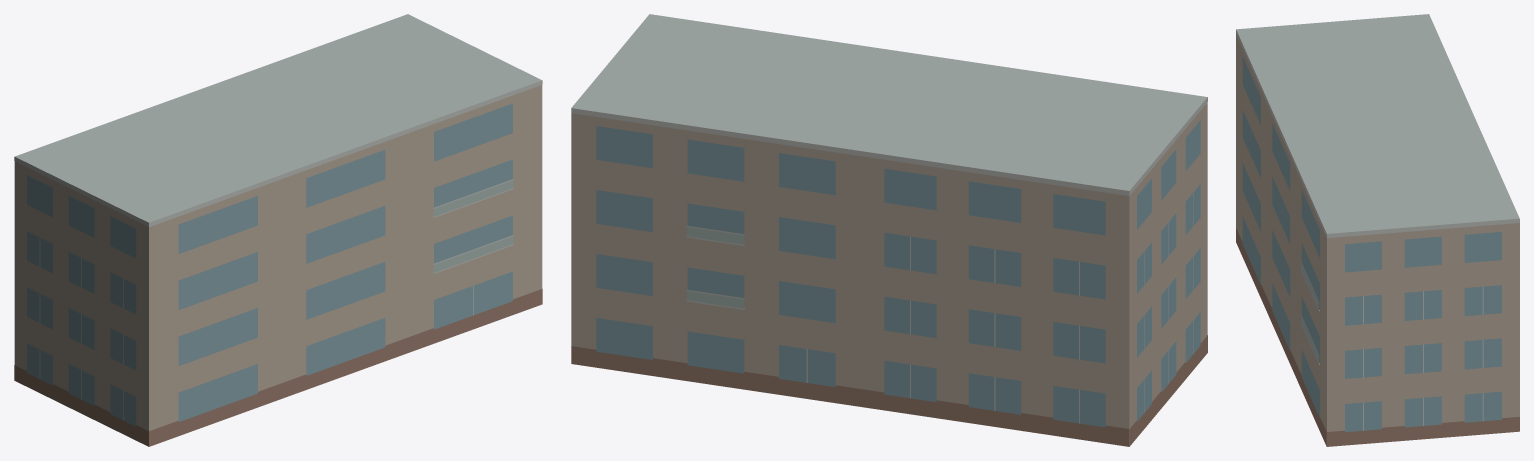
File: residential-b02f5d87-8a7f-4059-b57e-a5db0776a917.glb
The picture shows the model from 3 angles, left to right: view 1: azimuth 30°, elevation 25°; view 2: azimuth 150°, elevation 25°; view 3: azimuth 270°, elevation 25°; orthographic projection. The views are drawn at different scales.
Parts seen in each view (by area): view 1: residential-b02f5d87-8a7f-4059-b57e-a5db0776a917.tmp; view 2: residential-b02f5d87-8a7f-4059-b57e-a5db0776a917.tmp; view 3: residential-b02f5d87-8a7f-4059-b57e-a5db0776a917.tmp.
Part boxes in pixels (bbox=[...]): residential-b02f5d87-8a7f-4059-b57e-a5db0776a917.tmp: bbox=[14, 14, 542, 446]; residential-b02f5d87-8a7f-4059-b57e-a5db0776a917.tmp: bbox=[571, 14, 1207, 446]; residential-b02f5d87-8a7f-4059-b57e-a5db0776a917.tmp: bbox=[1236, 14, 1519, 446].
Bounding box in the file's own units: 27.02 × 12.2 × 14.74.
